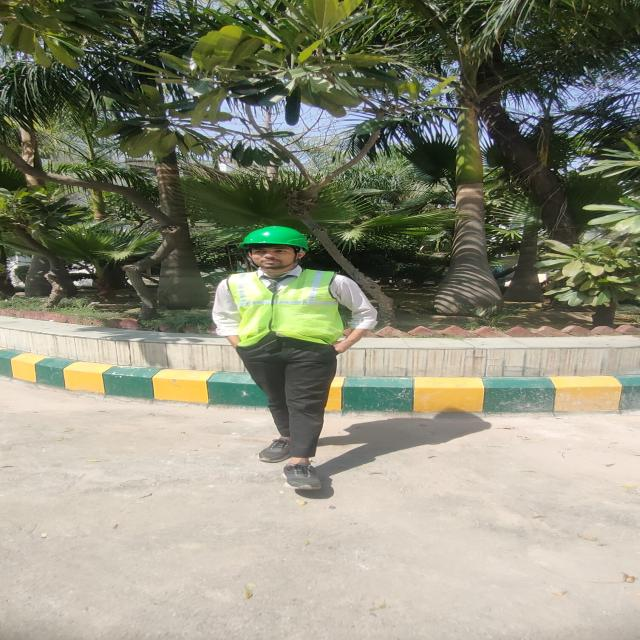safe: (212, 222, 376, 489)
